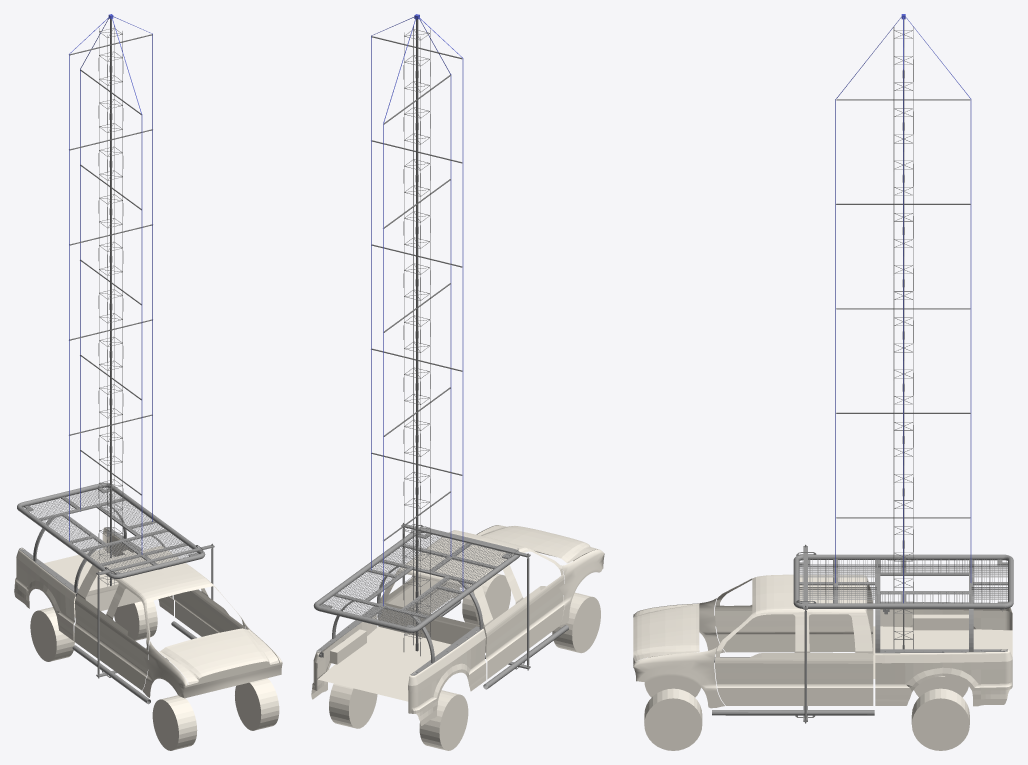
The model's file is baseStation.gltf.
3 renders of one model, left to right at view 1: azimuth 30°, elevation 25°; view 2: azimuth 150°, elevation 25°; view 3: azimuth 270°, elevation 25°, orthographic. The views are drawn at different scales.
Parts seen in each view (by area): view 1: trcukBody, antenna, mesh, cage, rope, stepRail, bedRailsAssembly; view 2: trcukBody, antenna, mesh, cage, rope, stepRail, bedRailsAssembly; view 3: trcukBody, antenna, cage, mesh, rope, stepRail, bedRailsAssembly.
Boxes of the visible parts, x1,y1,x2,y2 form: trcukBody: [14, 527, 282, 750]; antenna: [69, 19, 152, 586]; mesh: [23, 487, 198, 573]; cage: [17, 482, 205, 592]; rope: [69, 14, 152, 554]; stepRail: [72, 543, 214, 704]; bedRailsAssembly: [19, 527, 142, 596]; trcukBody: [311, 525, 604, 750]; antenna: [371, 19, 462, 656]; mesh: [320, 532, 513, 627]; cage: [313, 525, 519, 663]; rope: [371, 14, 463, 605]; stepRail: [401, 523, 568, 689]; bedRailsAssembly: [316, 603, 483, 675]; trcukBody: [633, 574, 1012, 750]; antenna: [836, 19, 970, 649]; cage: [793, 552, 1013, 652]; mesh: [799, 559, 1007, 602]; rope: [835, 14, 971, 603]; stepRail: [712, 544, 874, 723]; bedRailsAssembly: [875, 601, 1007, 653].
Size of the model in its own units: 233 by 1241 by 603.
